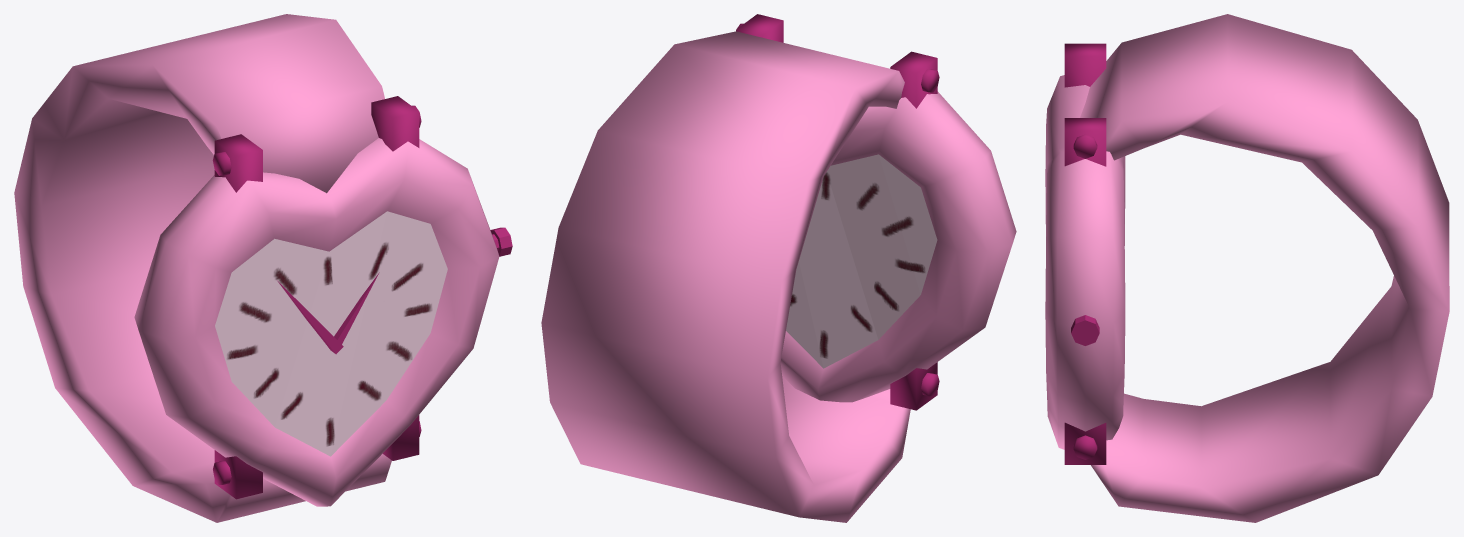
The model's file is ClockPowerUp.fbx.
3 renders of one model, left to right at view 1: azimuth 30°, elevation 25°; view 2: azimuth 150°, elevation 25°; view 3: azimuth 270°, elevation 25°, orthographic. The views are drawn at different scales.
Parts seen in each view (by area): view 1: Relogio_PowerUp; view 2: Relogio_PowerUp; view 3: Relogio_PowerUp.
Part boxes in pixels (x1,y1,x2,y2): Relogio_PowerUp: [14, 14, 512, 522]; Relogio_PowerUp: [541, 14, 1016, 522]; Relogio_PowerUp: [1045, 14, 1449, 522].
Bounding box in the file's own units: 167 × 187 × 163.
Materials: 1 (1 with a texture image).
